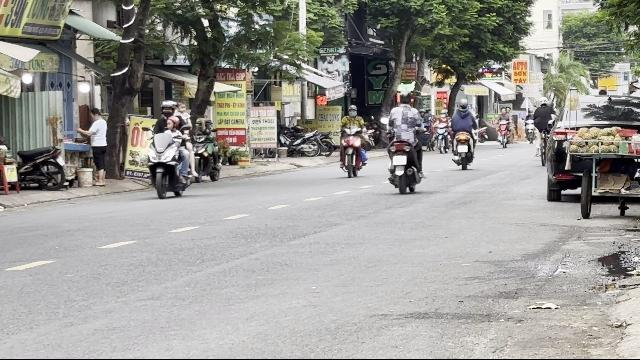helmet: (159, 100, 175, 116)
motorcyclist: (143, 100, 193, 200)
